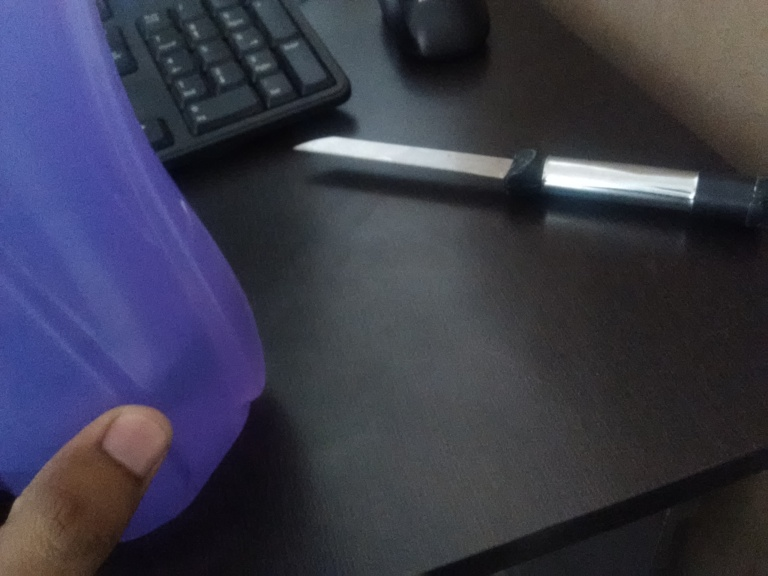knife: (292, 131, 764, 222)
